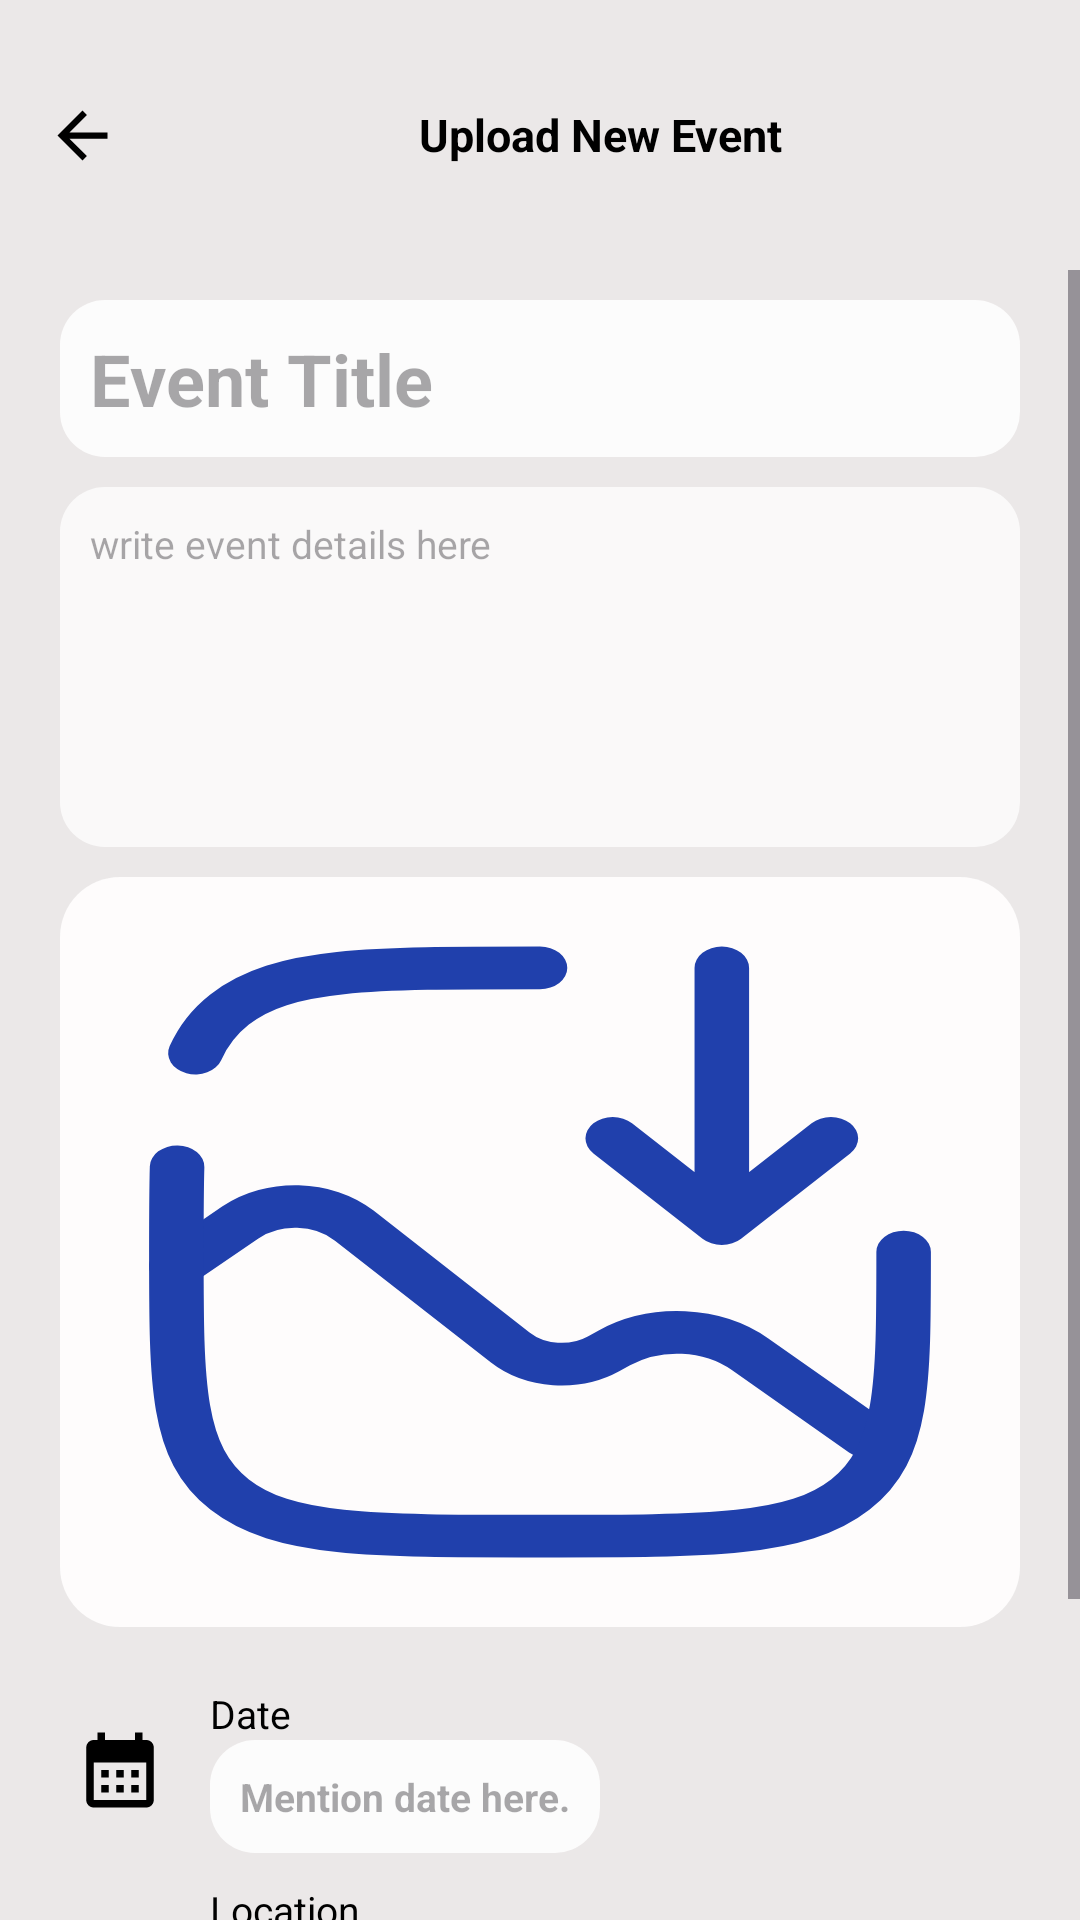

Screen size 1080px×1920px. Icon name, then its box in pixels as (x1, y1, x2, y2):
back: (57, 110, 108, 161)
calendar: (86, 1732, 154, 1808)
